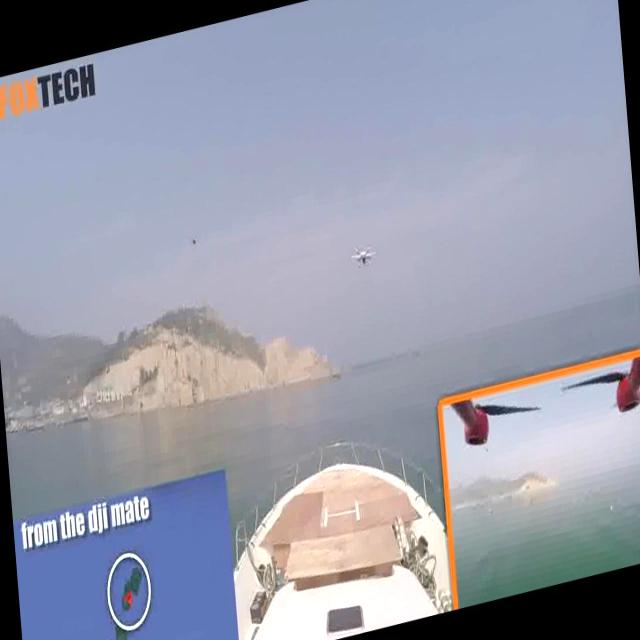drone: (349, 238, 379, 273)
